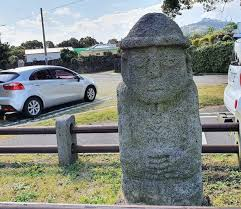Stone Statue: (107, 11, 219, 209)
